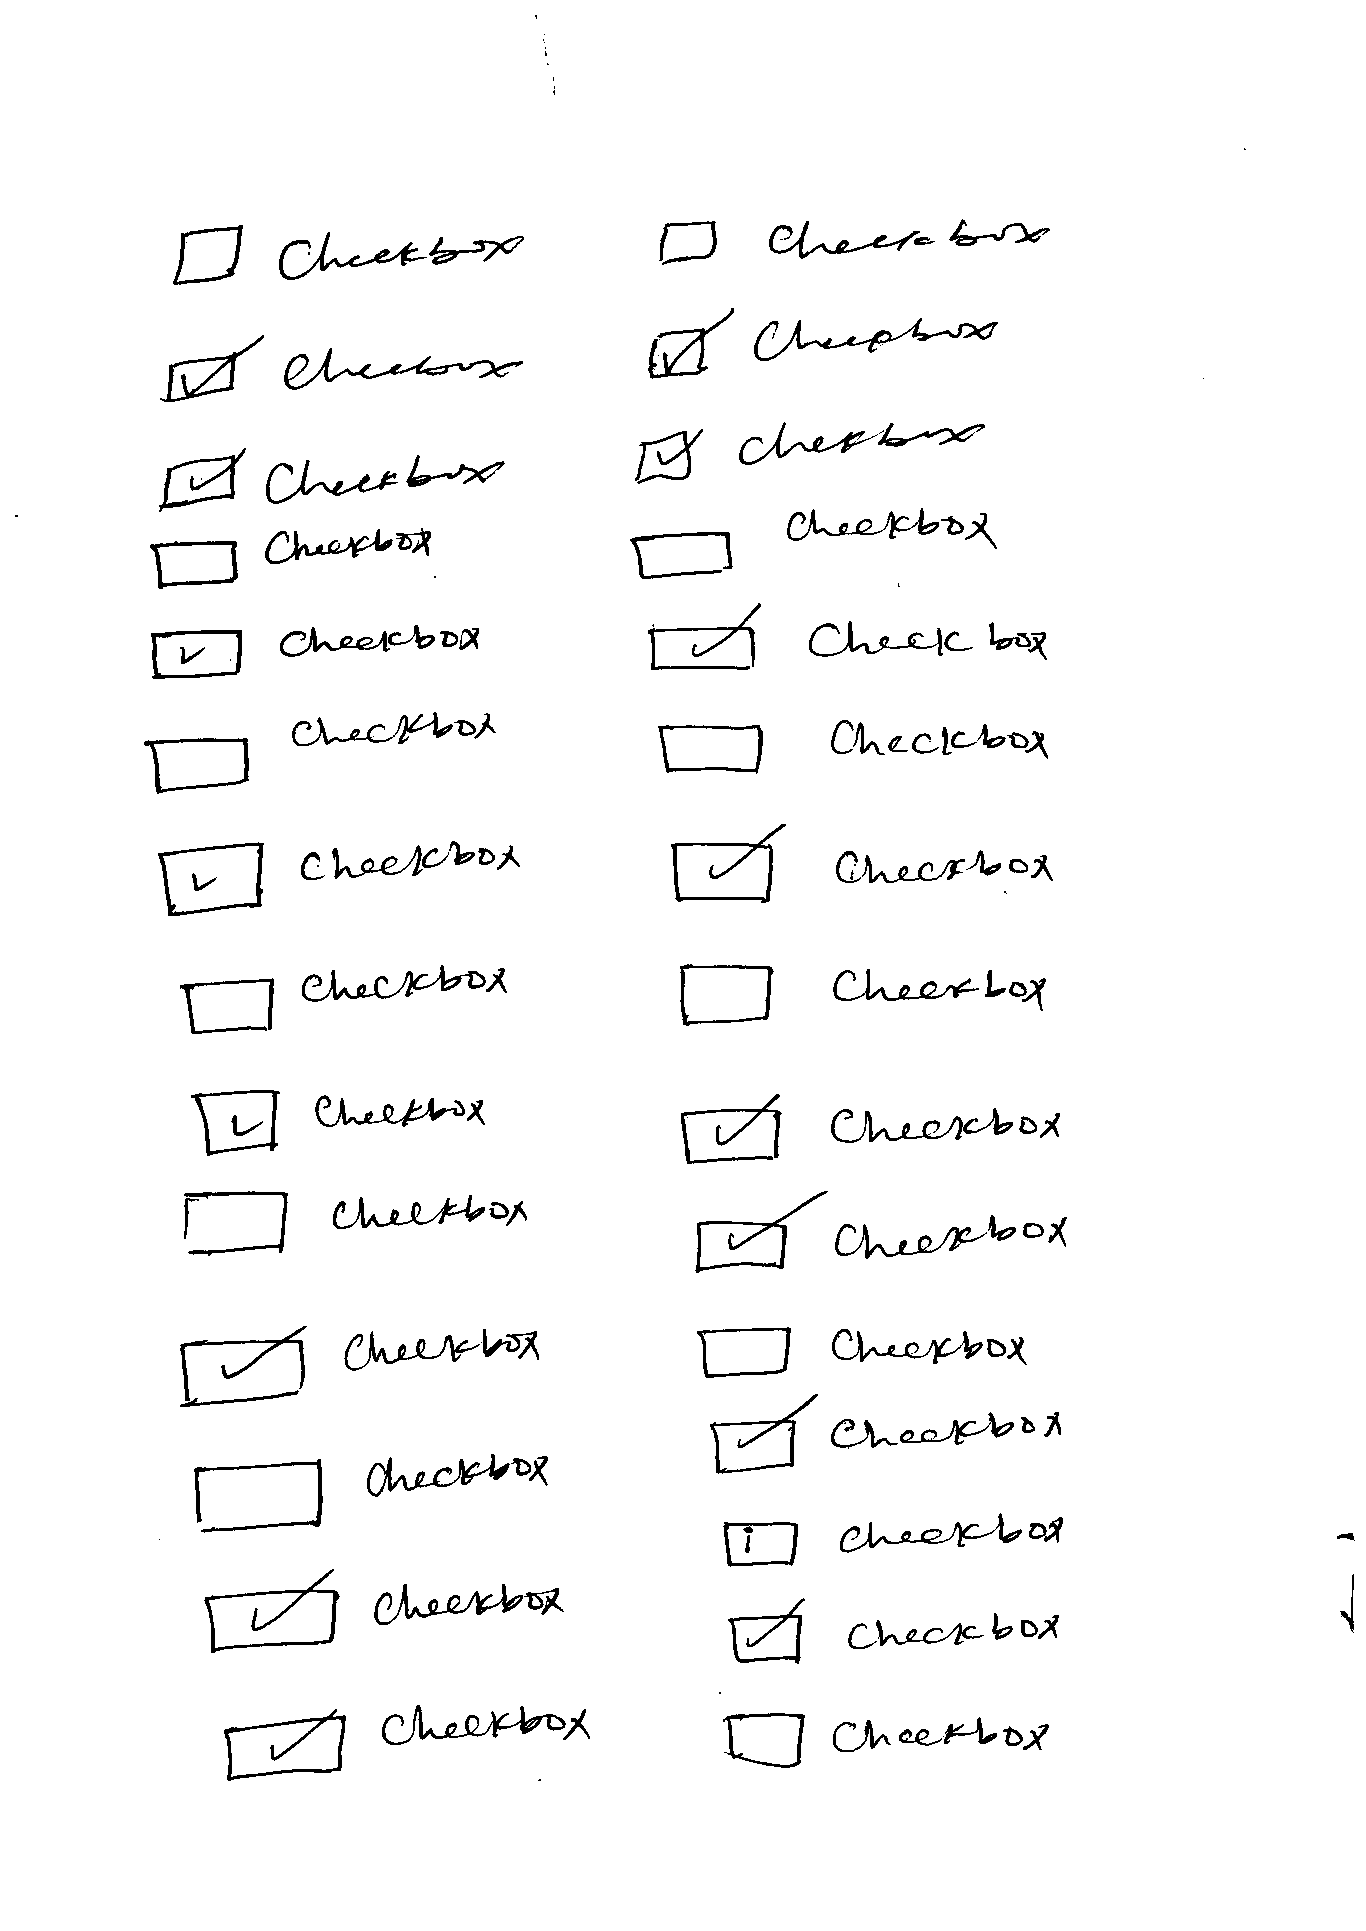Check Box: (177, 1317, 543, 1411), (204, 1564, 563, 1659), (191, 1445, 553, 1536), (140, 705, 497, 797), (219, 1702, 594, 1785), (157, 838, 523, 920), (628, 506, 999, 583), (633, 411, 988, 489), (646, 309, 996, 384), (692, 1208, 1070, 1277), (180, 1186, 528, 1261), (679, 1100, 1061, 1167), (673, 838, 1053, 905), (680, 963, 1050, 1031), (710, 1408, 1063, 1479), (180, 961, 509, 1036), (658, 716, 1047, 778), (158, 445, 507, 513), (170, 222, 523, 288), (163, 342, 523, 407), (645, 615, 1050, 673), (655, 213, 1054, 268), (189, 1088, 489, 1158), (721, 1513, 1064, 1573), (724, 1711, 1053, 1768), (696, 1326, 1030, 1382), (727, 1607, 1061, 1663), (151, 628, 480, 682), (149, 526, 432, 588)
